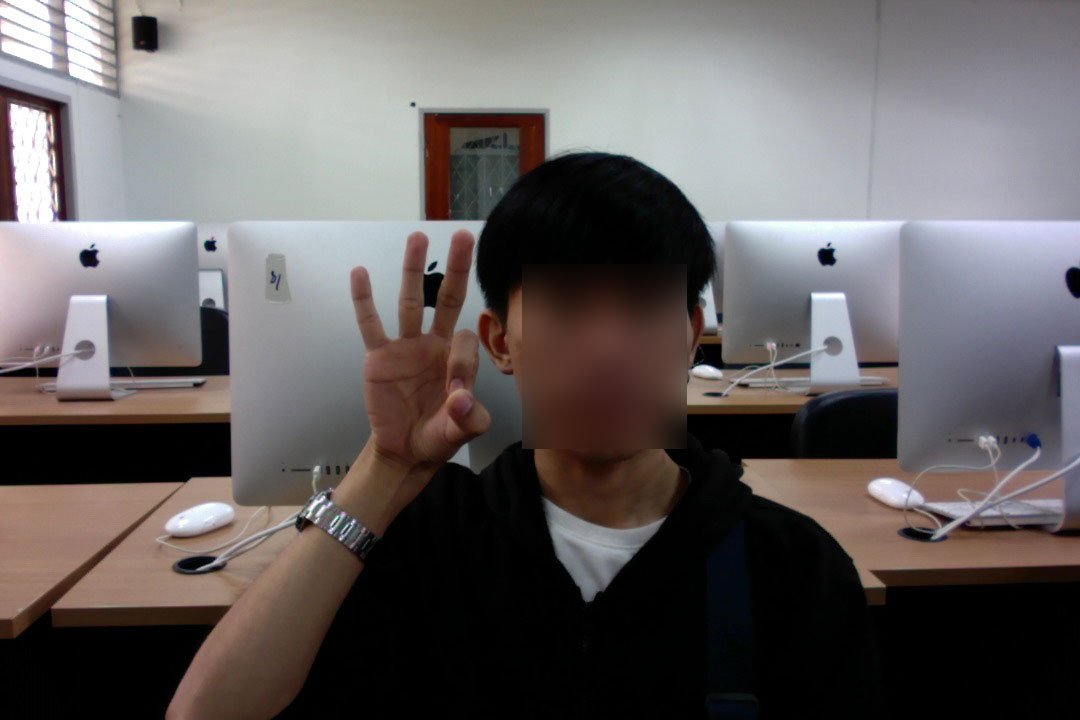for: (319, 214, 497, 503)
